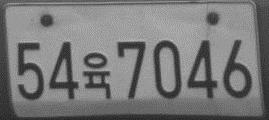0: (152, 37, 183, 98)
4: (46, 39, 81, 100), (185, 37, 219, 99)
5: (15, 41, 45, 100)
6: (220, 37, 254, 100)
7: (115, 39, 147, 98)
육: (81, 50, 113, 100)
